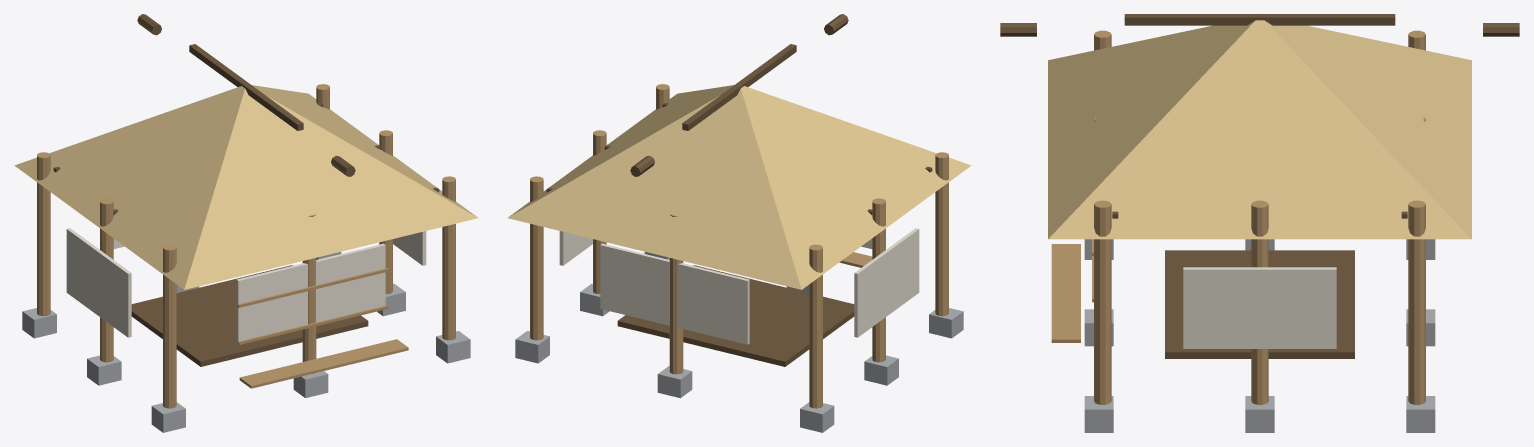
The model's file is hut.glb.
3 renders of one model, left to right at view 1: azimuth 30°, elevation 25°; view 2: azimuth 150°, elevation 25°; view 3: azimuth 270°, elevation 25°, orthographic. The views are drawn at different scales.
Parts seen in each view (by area): view 1: Cylinder.009; view 2: Cylinder.009; view 3: Cylinder.009.
Part boxes in pixels (x1=…): Cylinder.009: x1=14, y1=14, x2=478, y2=432; Cylinder.009: x1=507, y1=14, x2=971, y2=432; Cylinder.009: x1=1000, y1=14, x2=1519, y2=432.
Bounding box in the file's own units: 6.05 × 4.89 × 7.1.
